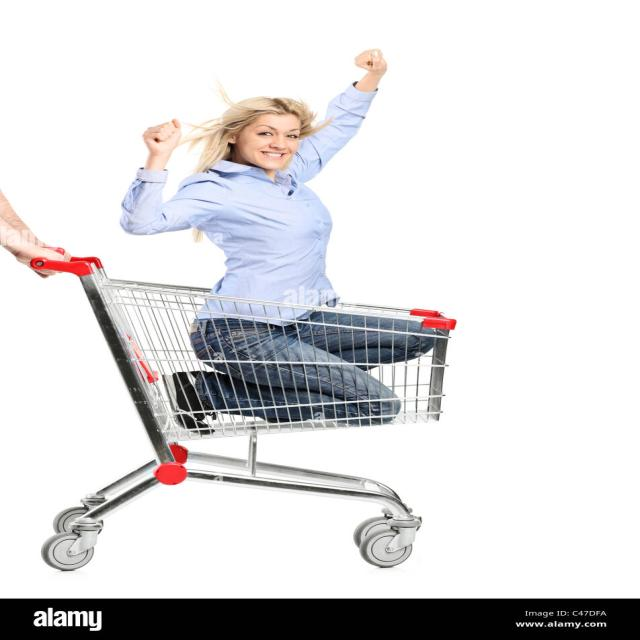Person: (117, 47, 441, 433)
